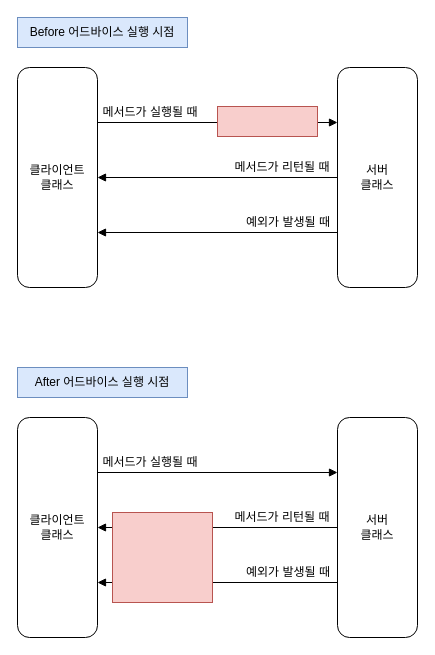
Image size: 435x655. Some labels were removed from this diagram. Each missing label, with the centre of its shape:
After 어드바이스: pixel 162 557
Before 어드바이스: pixel 267 121
